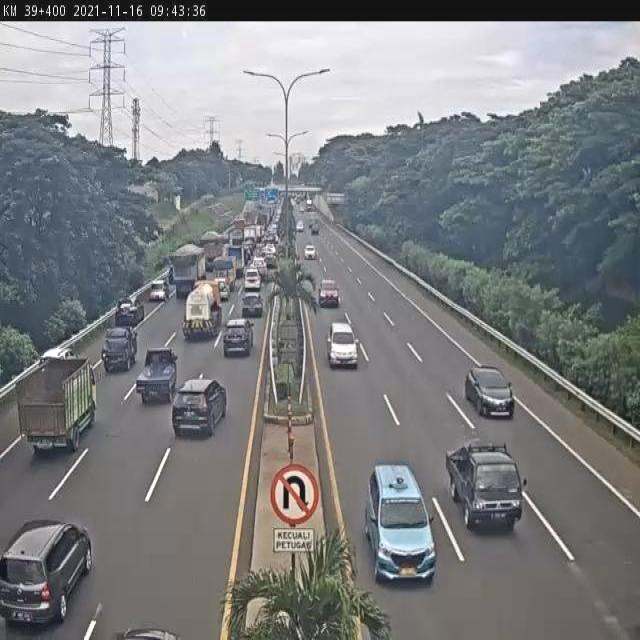Car: (0, 515, 94, 627), (363, 463, 438, 587), (172, 378, 229, 442), (464, 366, 515, 420), (326, 322, 359, 369), (222, 318, 256, 358), (114, 296, 144, 329), (317, 277, 340, 308), (241, 292, 265, 318), (149, 280, 170, 303), (243, 269, 262, 291), (303, 244, 316, 260)
Truck: (14, 354, 100, 459), (444, 437, 528, 533), (136, 347, 179, 406), (182, 280, 224, 339), (171, 244, 207, 298), (199, 230, 225, 273), (213, 255, 237, 291)
